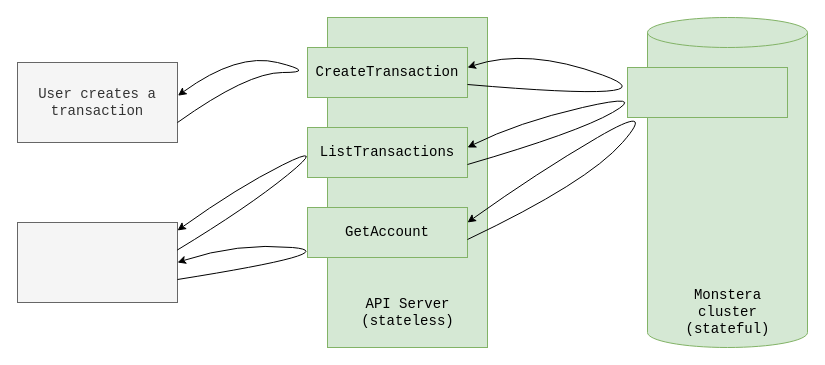
The diagram is 825 pixels wide and 365 high, and some of its shapes have lost their labels. The shapes that lost their labels are listed below. From the top down, each one's box as (x1, y1, x2, y2) in pixels, then its label:
(626, 66, 788, 118): Accounts & Transactions
(16, 222, 178, 302): User checks the account balance
